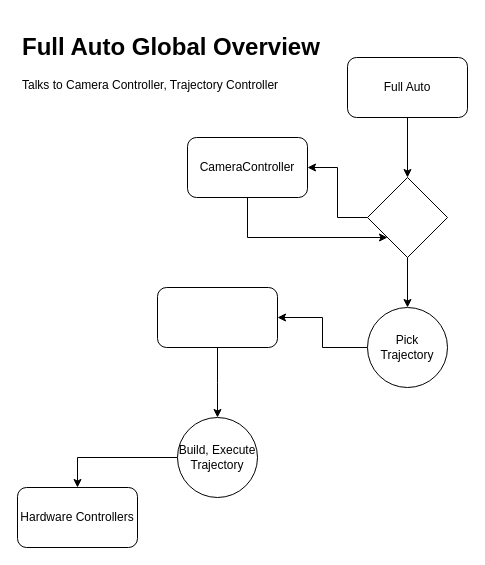
Image size: 485x565. Some labels were removed from this diagram. The shapes that lost their labels are listed below. From the top down, each one's centre as x and y in pixels, then its label:
At (407,217): "CountRings".
At (217,317): "TrajectoryController".
